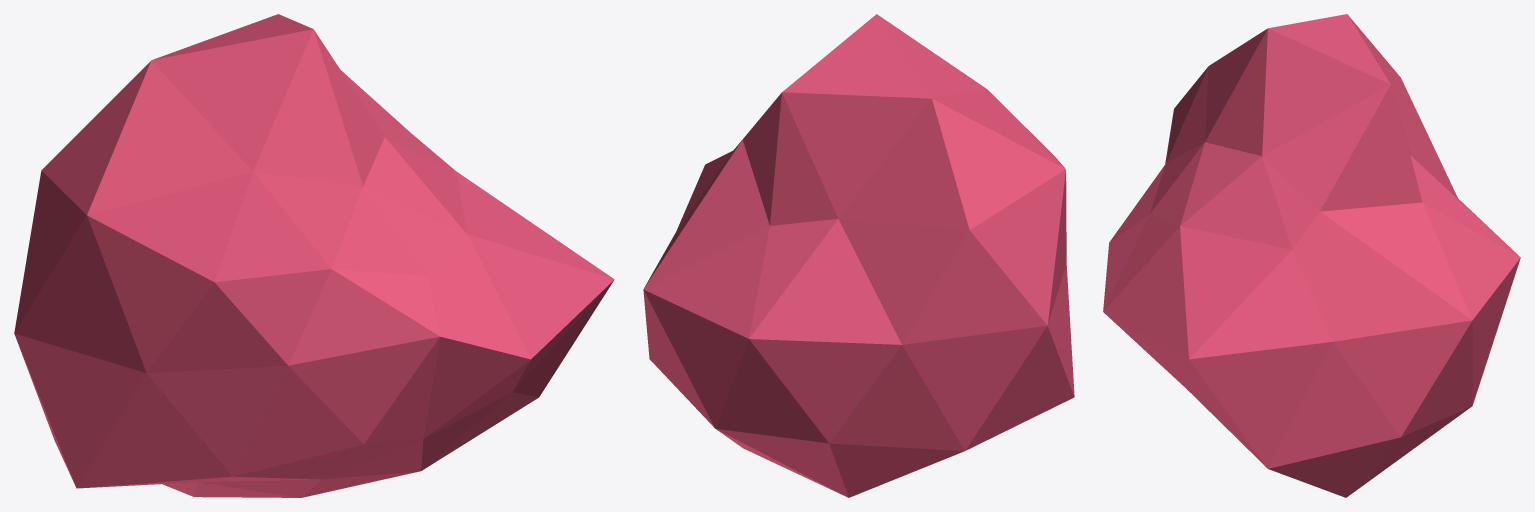
File: rock1.fbx
The picture shows the model from 3 angles, left to right: view 1: azimuth 30°, elevation 25°; view 2: azimuth 150°, elevation 25°; view 3: azimuth 270°, elevation 25°; orthographic projection. The views are drawn at different scales.
Visible parts, largest first — view 1: Икосфера; view 2: Икосфера; view 3: Икосфера.
Part boxes in pixels (box(x1,y1,x2,y2)): Икосфера: box(14, 14, 614, 497); Икосфера: box(643, 14, 1074, 497); Икосфера: box(1103, 14, 1520, 497).
Size of the model in its own units: 191 by 185 by 165.
